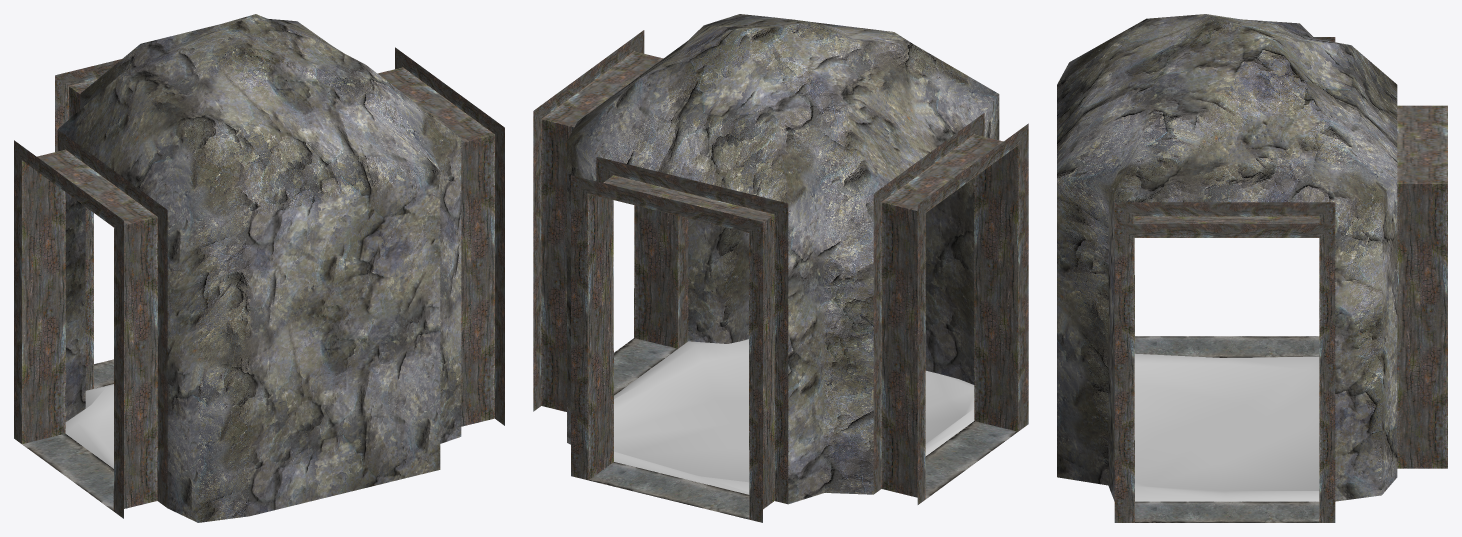
Rendered from RockyTunnel3way.FBX.
3 views of the same model, side by side, from view 1: azimuth 30°, elevation 25°; view 2: azimuth 150°, elevation 25°; view 3: azimuth 270°, elevation 25° (orthographic).
Parts seen in each view (by area): view 1: Object108; view 2: Object108; view 3: Object108.
Part boxes in pixels (bbox=[...]): Object108: bbox=[14, 14, 504, 522]; Object108: bbox=[533, 14, 1028, 522]; Object108: bbox=[1057, 14, 1447, 522].
Size of the model in its own units: 500 by 498 by 443.
